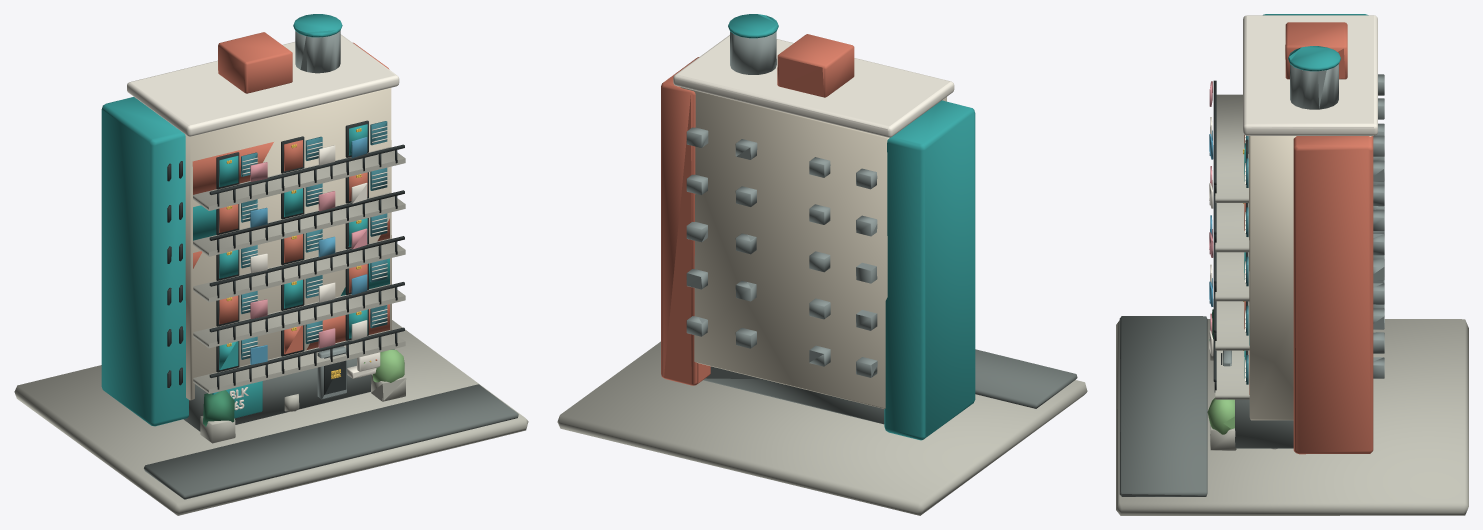
File: hdb-call-v2.glb
3 renders of one model, left to right at view 1: azimuth 30°, elevation 25°; view 2: azimuth 150°, elevation 25°; view 3: azimuth 270°, elevation 25°, orthographic. The views are drawn at different scales.
Visible parts, largest first — view 1: HDB Block teal, Preview ground, HDB Warm concrete, HDB HDB cream, HDB Chalk white, Preview road, HDB Ink charcoal, HDB Corridor coral, HDB Smoky glass, HDB Void deck asphalt, HDB Service metal, HDB Laundry pink (+3 smaller); view 2: HDB HDB cream, Preview ground, HDB Block teal, HDB Corridor coral, HDB Chalk white, HDB Service metal, Preview road, HDB Void deck asphalt; view 3: Preview ground, HDB Corridor coral, Preview road, HDB HDB cream, HDB Chalk white, HDB Warm concrete, HDB Service metal, HDB Void deck asphalt, HDB Block teal, HDB Ink charcoal, HDB Plant light, HDB Smoky glass.
Boxes of the visible parts, x1=… form: HDB Block teal: x1=101, y1=14, x2=389, y2=426; Preview ground: x1=14, y1=320, x2=528, y2=515; HDB Warm concrete: x1=193, y1=147, x2=406, y2=443; HDB HDB cream: x1=185, y1=88, x2=391, y2=400; HDB Chalk white: x1=127, y1=34, x2=399, y2=410; Preview road: x1=144, y1=384, x2=518, y2=499; HDB Ink charcoal: x1=167, y1=120, x2=404, y2=394; HDB Corridor coral: x1=192, y1=32, x2=389, y2=360; HDB Smoky glass: x1=241, y1=121, x2=387, y2=359; HDB Void deck asphalt: x1=183, y1=349, x2=394, y2=431; HDB Service metal: x1=295, y1=31, x2=347, y2=399; HDB Laundry pink: x1=250, y1=162, x2=367, y2=348; HDB HDB cream: x1=680, y1=87, x2=946, y2=408; Preview ground: x1=557, y1=341, x2=1087, y2=515; HDB Block teal: x1=728, y1=14, x2=975, y2=440; HDB Corridor coral: x1=661, y1=34, x2=854, y2=385; HDB Chalk white: x1=673, y1=35, x2=954, y2=137; HDB Service metal: x1=686, y1=31, x2=877, y2=377; Preview road: x1=975, y1=349, x2=1077, y2=408; HDB Void deck asphalt: x1=703, y1=366, x2=884, y2=424; Preview ground: x1=1116, y1=319, x2=1468, y2=515; HDB Corridor coral: x1=1244, y1=22, x2=1373, y2=454; Preview road: x1=1119, y1=316, x2=1207, y2=496; HDB HDB cream: x1=1249, y1=136, x2=1371, y2=420; HDB Chalk white: x1=1209, y1=15, x2=1377, y2=449; HDB Warm concrete: x1=1210, y1=94, x2=1249, y2=450; HDB Service metal: x1=1223, y1=64, x2=1384, y2=378; HDB Void deck asphalt: x1=1235, y1=399, x2=1293, y2=448; HDB Block teal: x1=1244, y1=14, x2=1368, y2=378; HDB Ink charcoal: x1=1213, y1=80, x2=1248, y2=392; HDB Plant light: x1=1207, y1=398, x2=1234, y2=434; HDB Smoky glass: x1=1246, y1=135, x2=1248, y2=384.
Size of the model in its own units: 10.98 by 10.91 by 8.78.
1 material, 1 textured.
